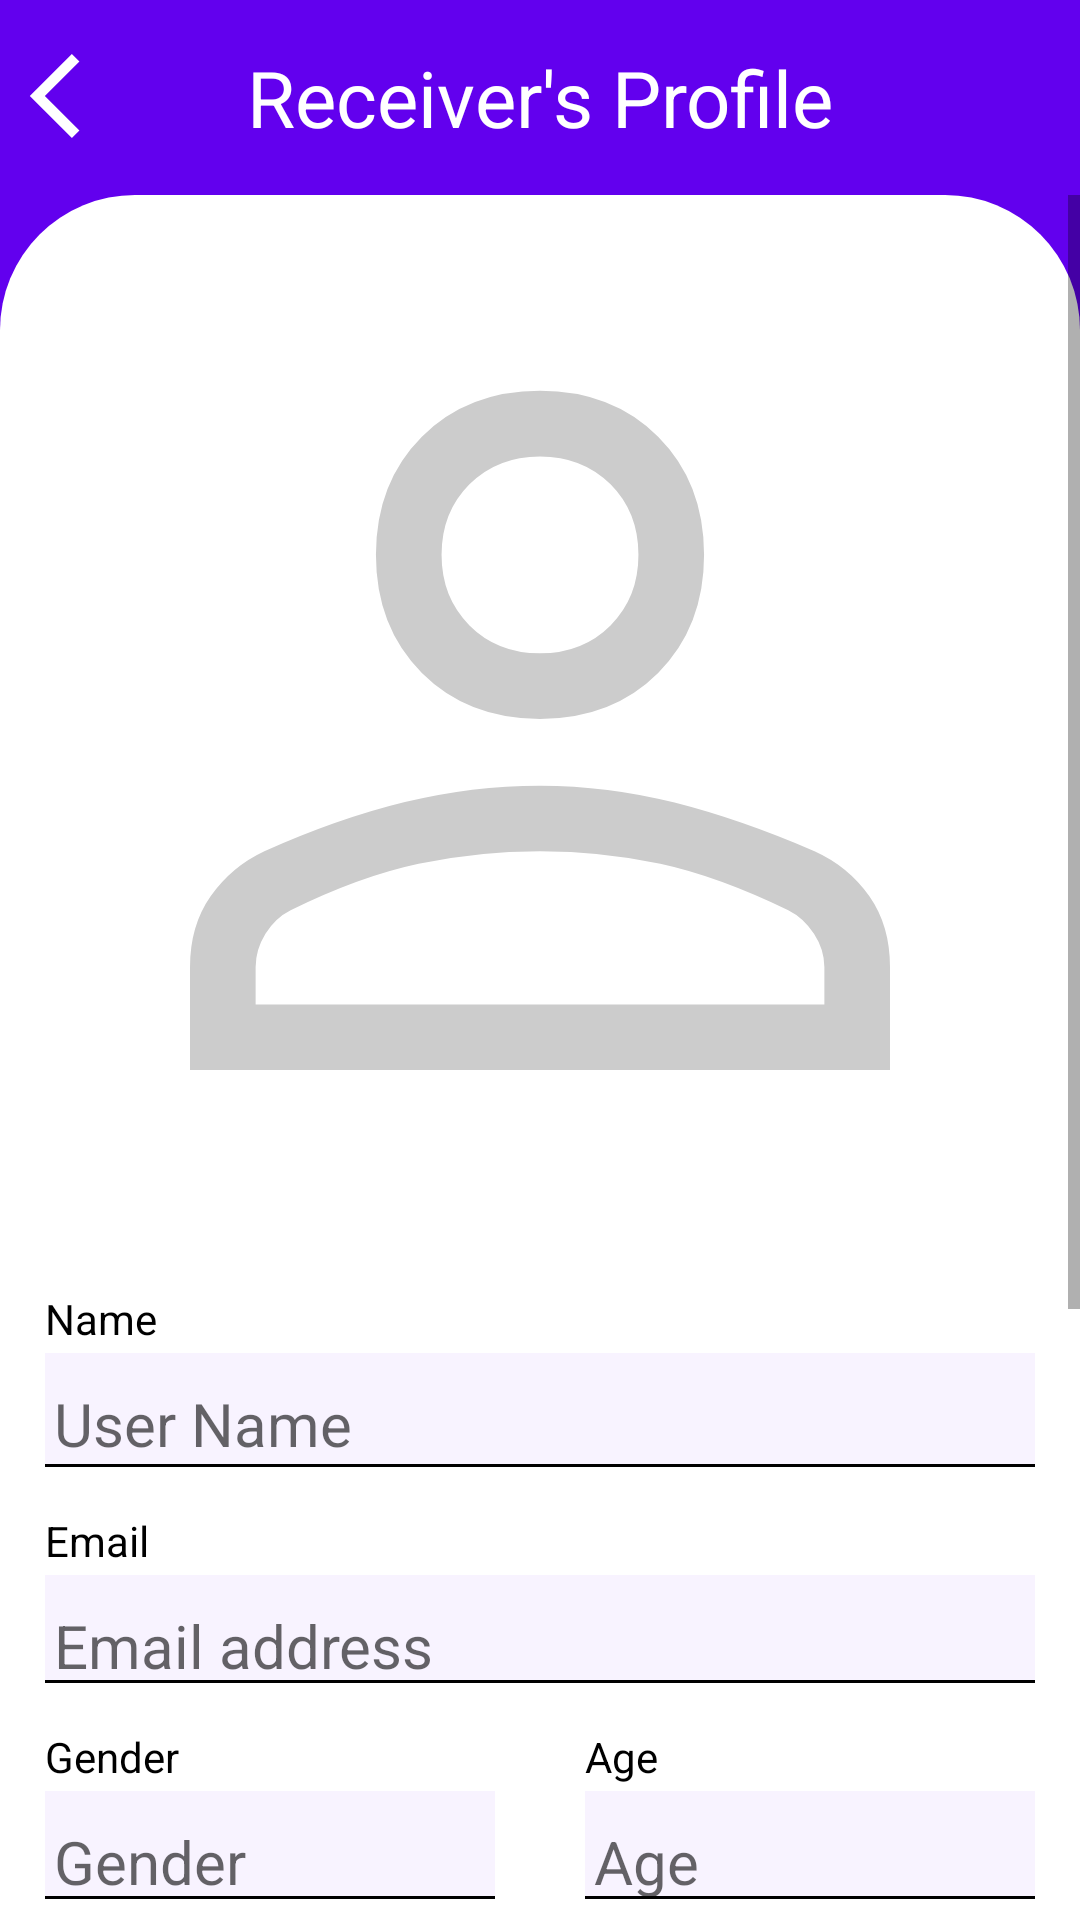

Screen size 1080w x 1920h. Icon name, then its center in pixels as (x=x, y=y):
Back: (x=55, y=96)
